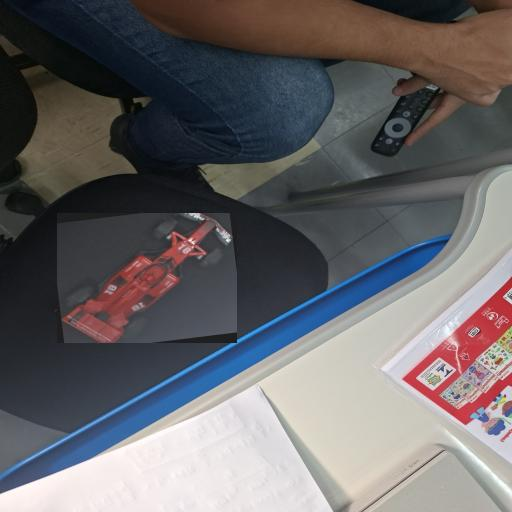carro: (57, 214, 236, 342)
